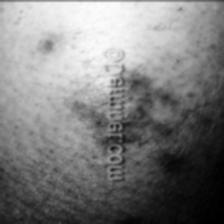Unclassified: (122, 70, 176, 146), (154, 150, 182, 176), (37, 29, 62, 56)
